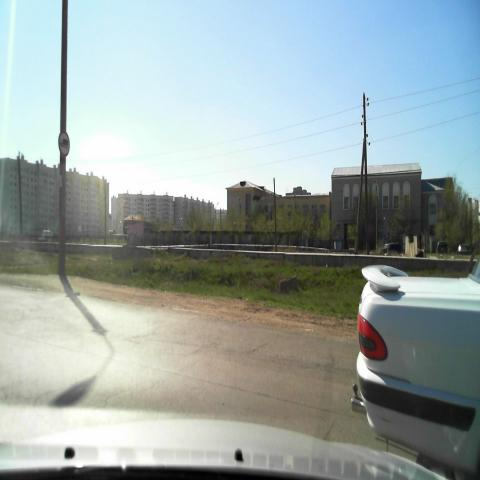3_4_1: (57, 130, 71, 158)
